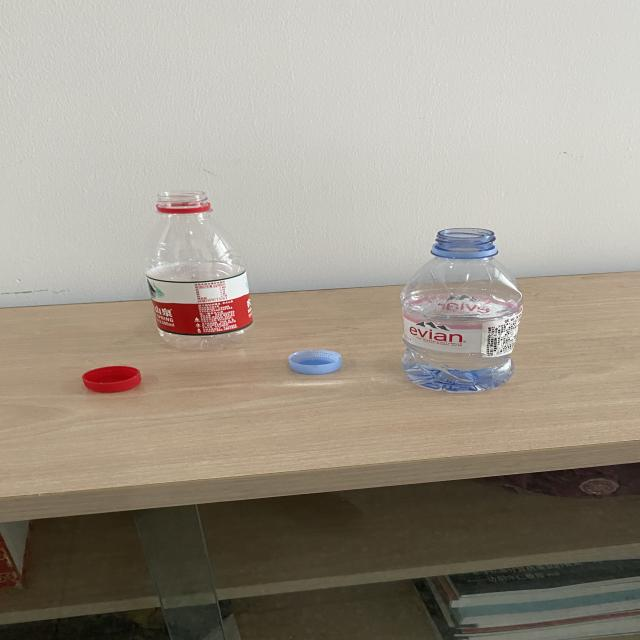Anorganik: (128, 186, 253, 360), (402, 222, 498, 384)
